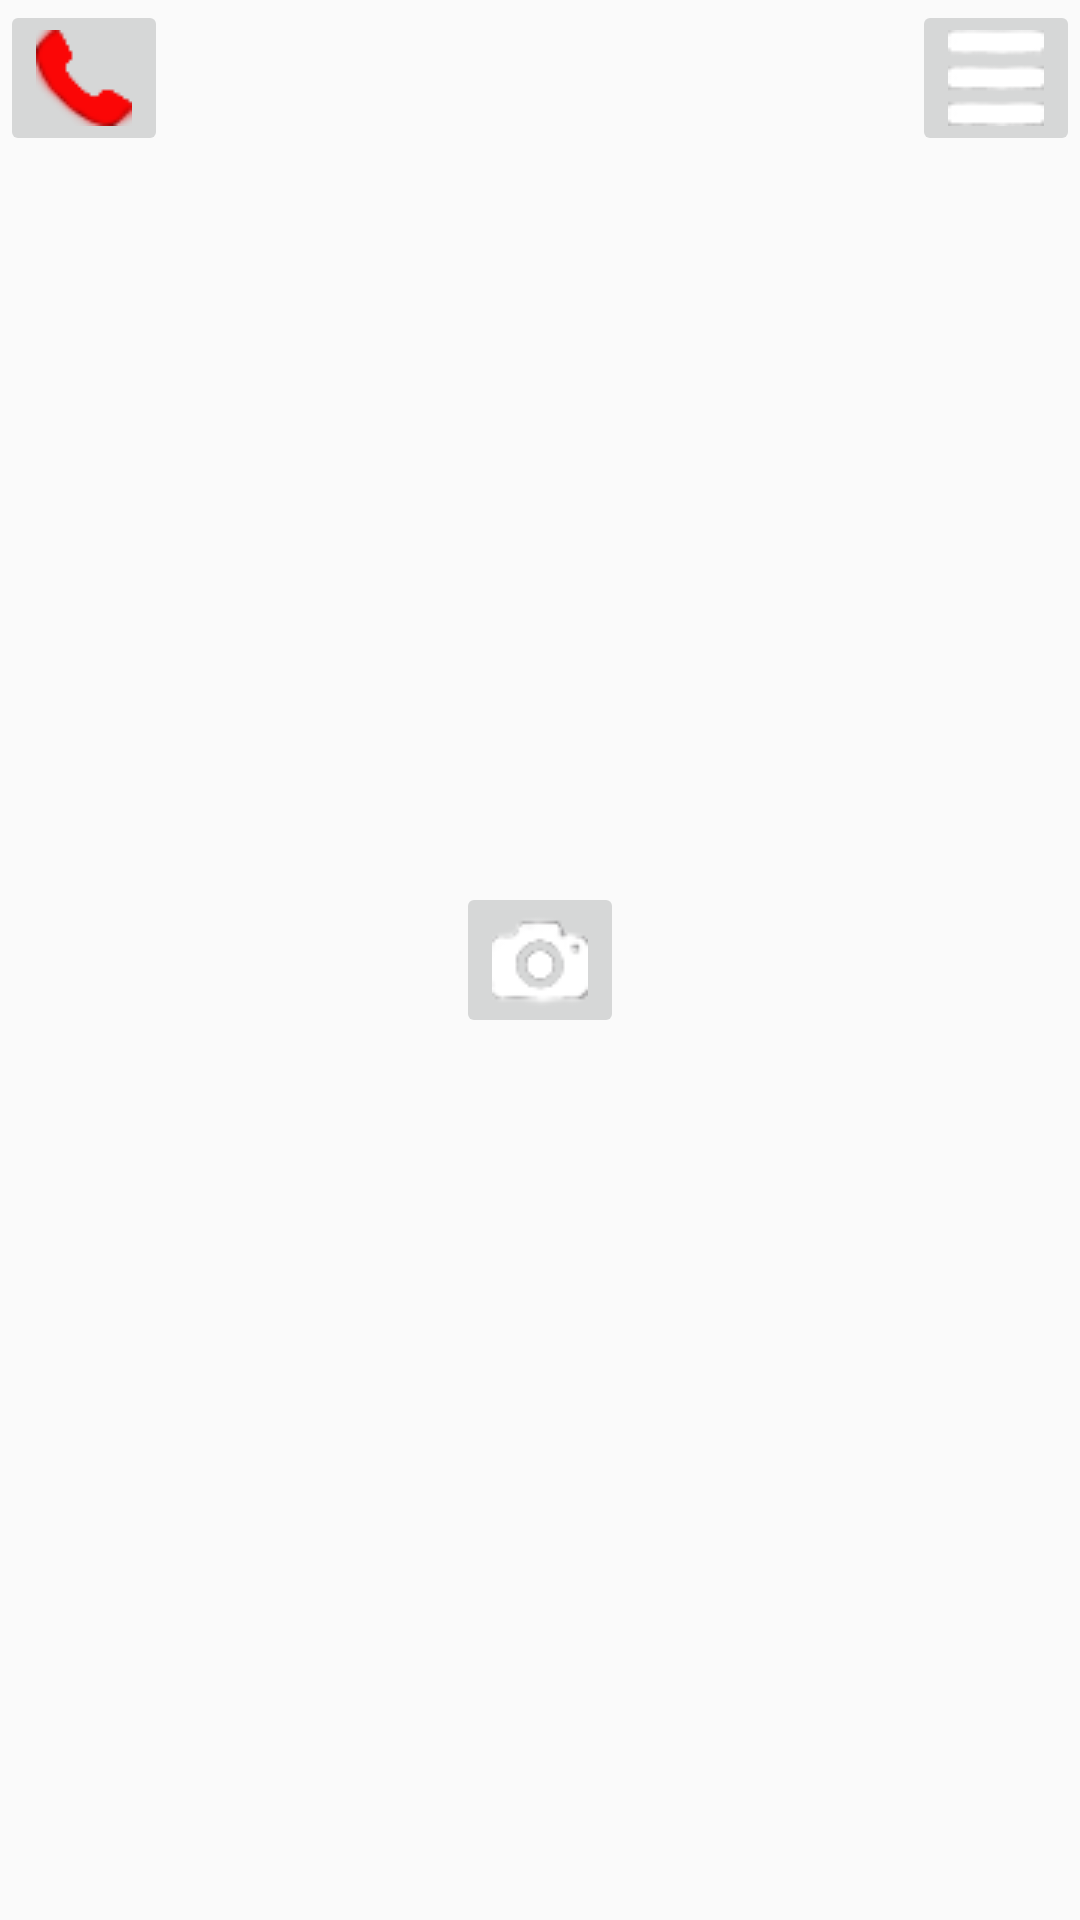

Where icons sit on this 1080w x 1920h app screen, as (x1, y1, x2, y2):
camera: (468, 900, 612, 1020)
phone: (12, 18, 156, 138)
